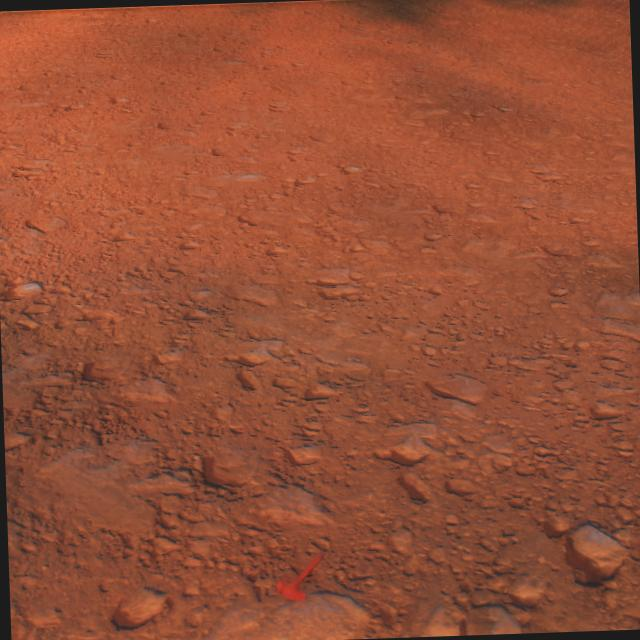newhammer: (275, 551, 325, 602)
